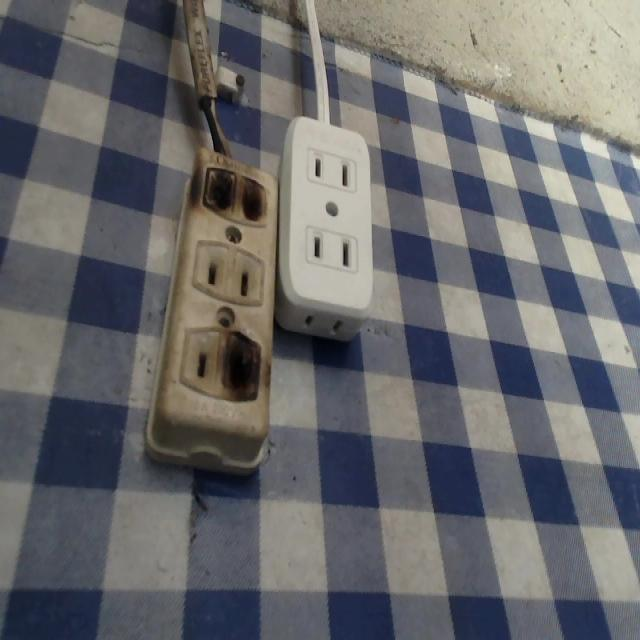-: (201, 164, 273, 231), (218, 330, 266, 410)
